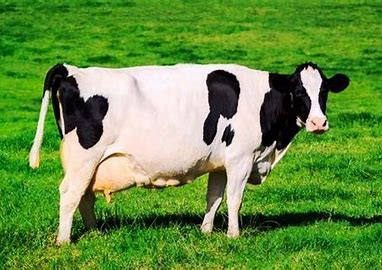waka: (24, 43, 354, 246)
